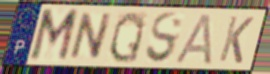A: (173, 12, 214, 66)
K: (217, 15, 256, 66)
M: (27, 7, 82, 64)
N: (67, 11, 115, 61)
Q: (106, 10, 147, 65)
S: (143, 11, 184, 66)
